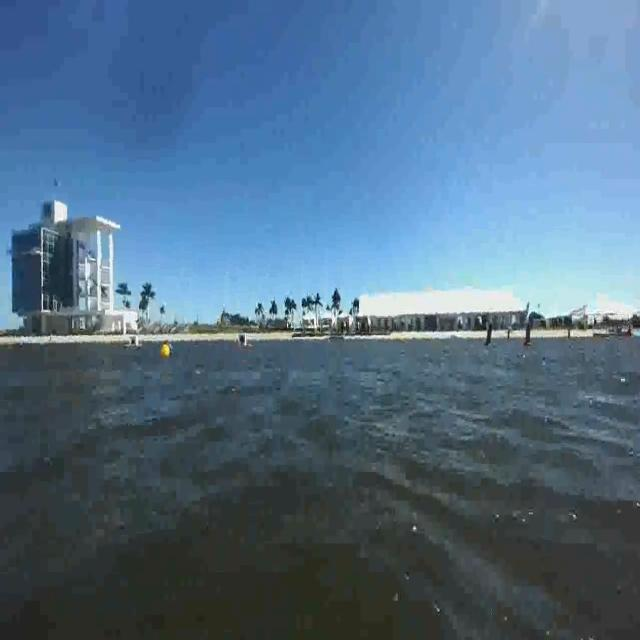yellow-buoy: (162, 342, 172, 360)
